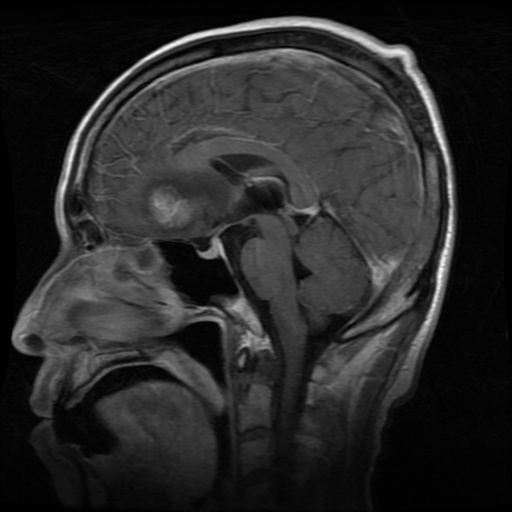meningioma: (149, 187, 193, 226)
